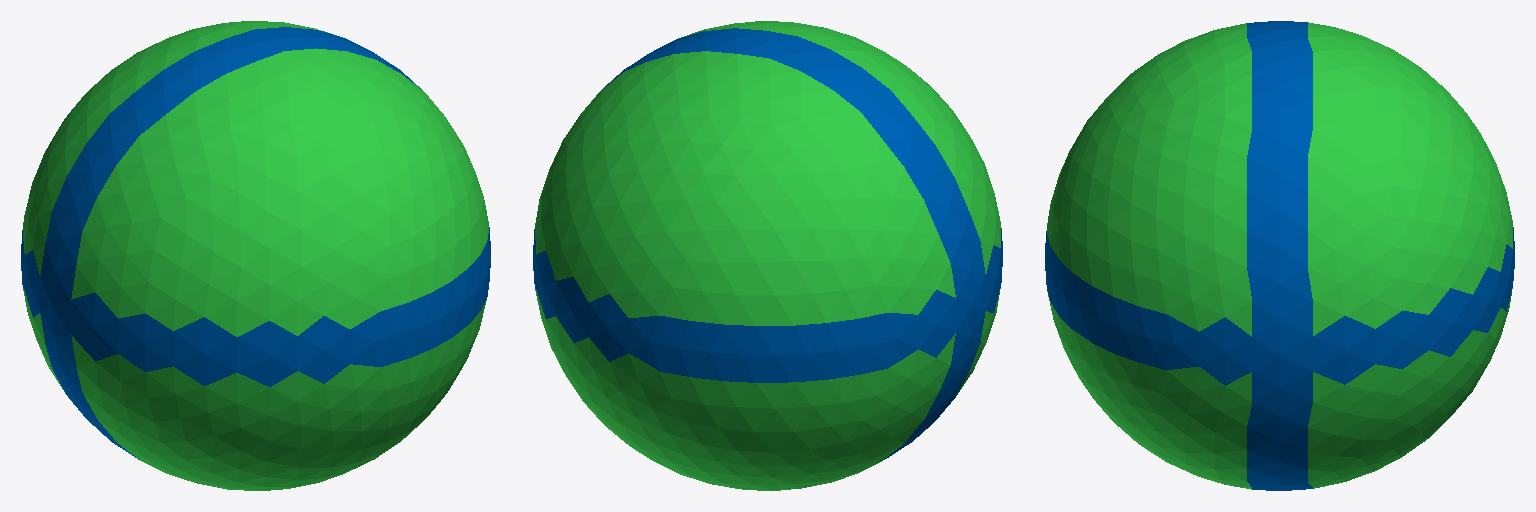
Rendered from Atom2.obj.
3 renders of one model, left to right at view 1: azimuth 30°, elevation 25°; view 2: azimuth 150°, elevation 25°; view 3: azimuth 270°, elevation 25°, orthographic.
Size of the model in its own units: 1.6 by 1.6 by 1.6.